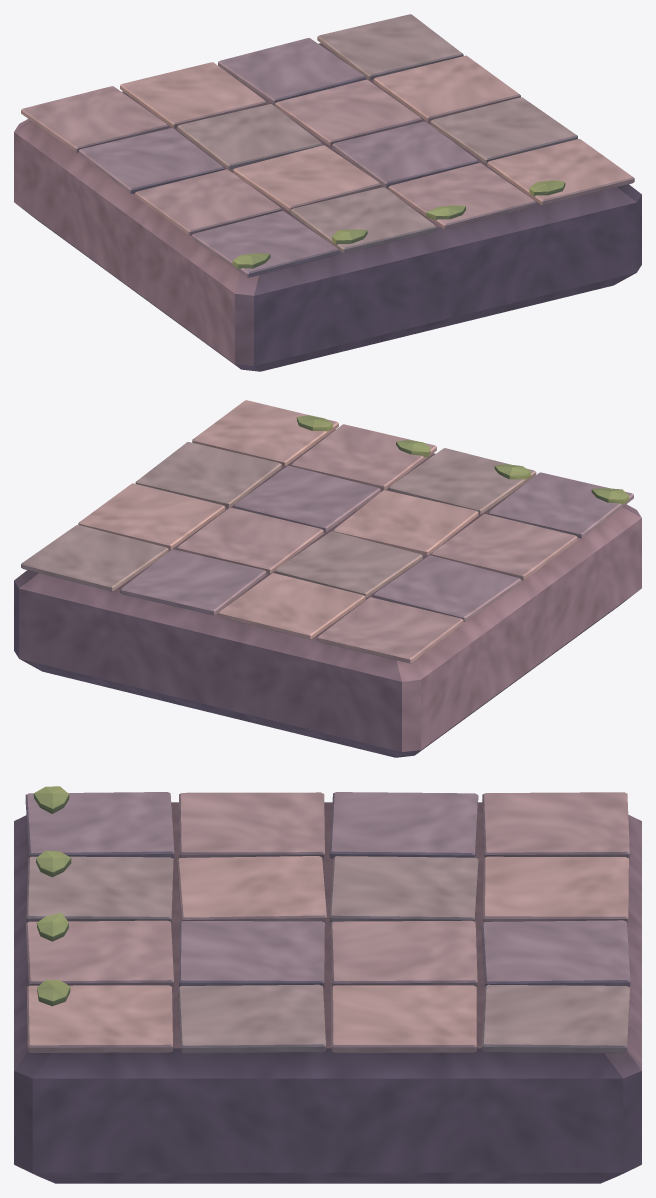
The model's file is dusk_floor_1.glb.
3 views of the same model, one above another, from view 1: azimuth 30°, elevation 25°; view 2: azimuth 150°, elevation 25°; view 3: azimuth 270°, elevation 25° (orthographic). The views are drawn at different scales.
Parts seen in each view (by area): view 1: Dämmergänge · Platten und Moos.001; view 2: Dämmergänge · Platten und Moos.001; view 3: Dämmergänge · Platten und Moos.001.
Part boxes in pixels (<box>): Dämmergänge · Platten und Moos.001: <box>14,14,641,371</box>; Dämmergänge · Platten und Moos.001: <box>14,400,641,757</box>; Dämmergänge · Platten und Moos.001: <box>14,786,641,1183</box>.
Size of the model in its own units: 2.4 by 0.631 by 2.4.
1 material, 1 textured.
